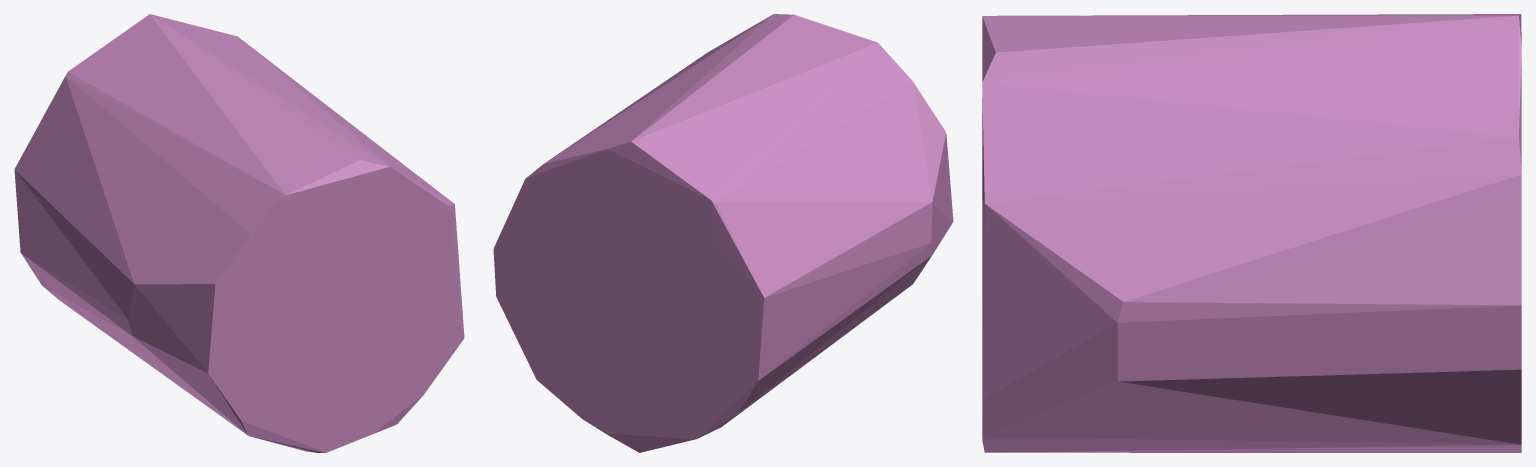
File: container_recycle_green_b04.glb
3 views of the same model, side by side, from view 1: azimuth 30°, elevation 25°; view 2: azimuth 150°, elevation 25°; view 3: azimuth 270°, elevation 25° (orthographic). The views are drawn at different scales.
Visible parts, largest first — view 1: geometry_0; view 2: geometry_0; view 3: geometry_0.
Boxes of the visible parts, box(x1,y1,x2,y2) form: geometry_0: box(14, 14, 464, 452); geometry_0: box(493, 14, 953, 452); geometry_0: box(982, 14, 1521, 452).
Size of the model in its own units: 0.4629 by 0.4262 by 0.48.
